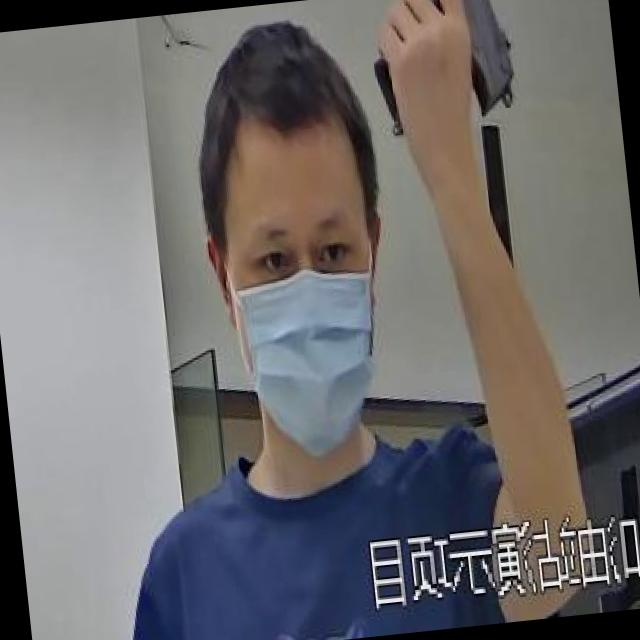Guns: (354, 0, 547, 187)
